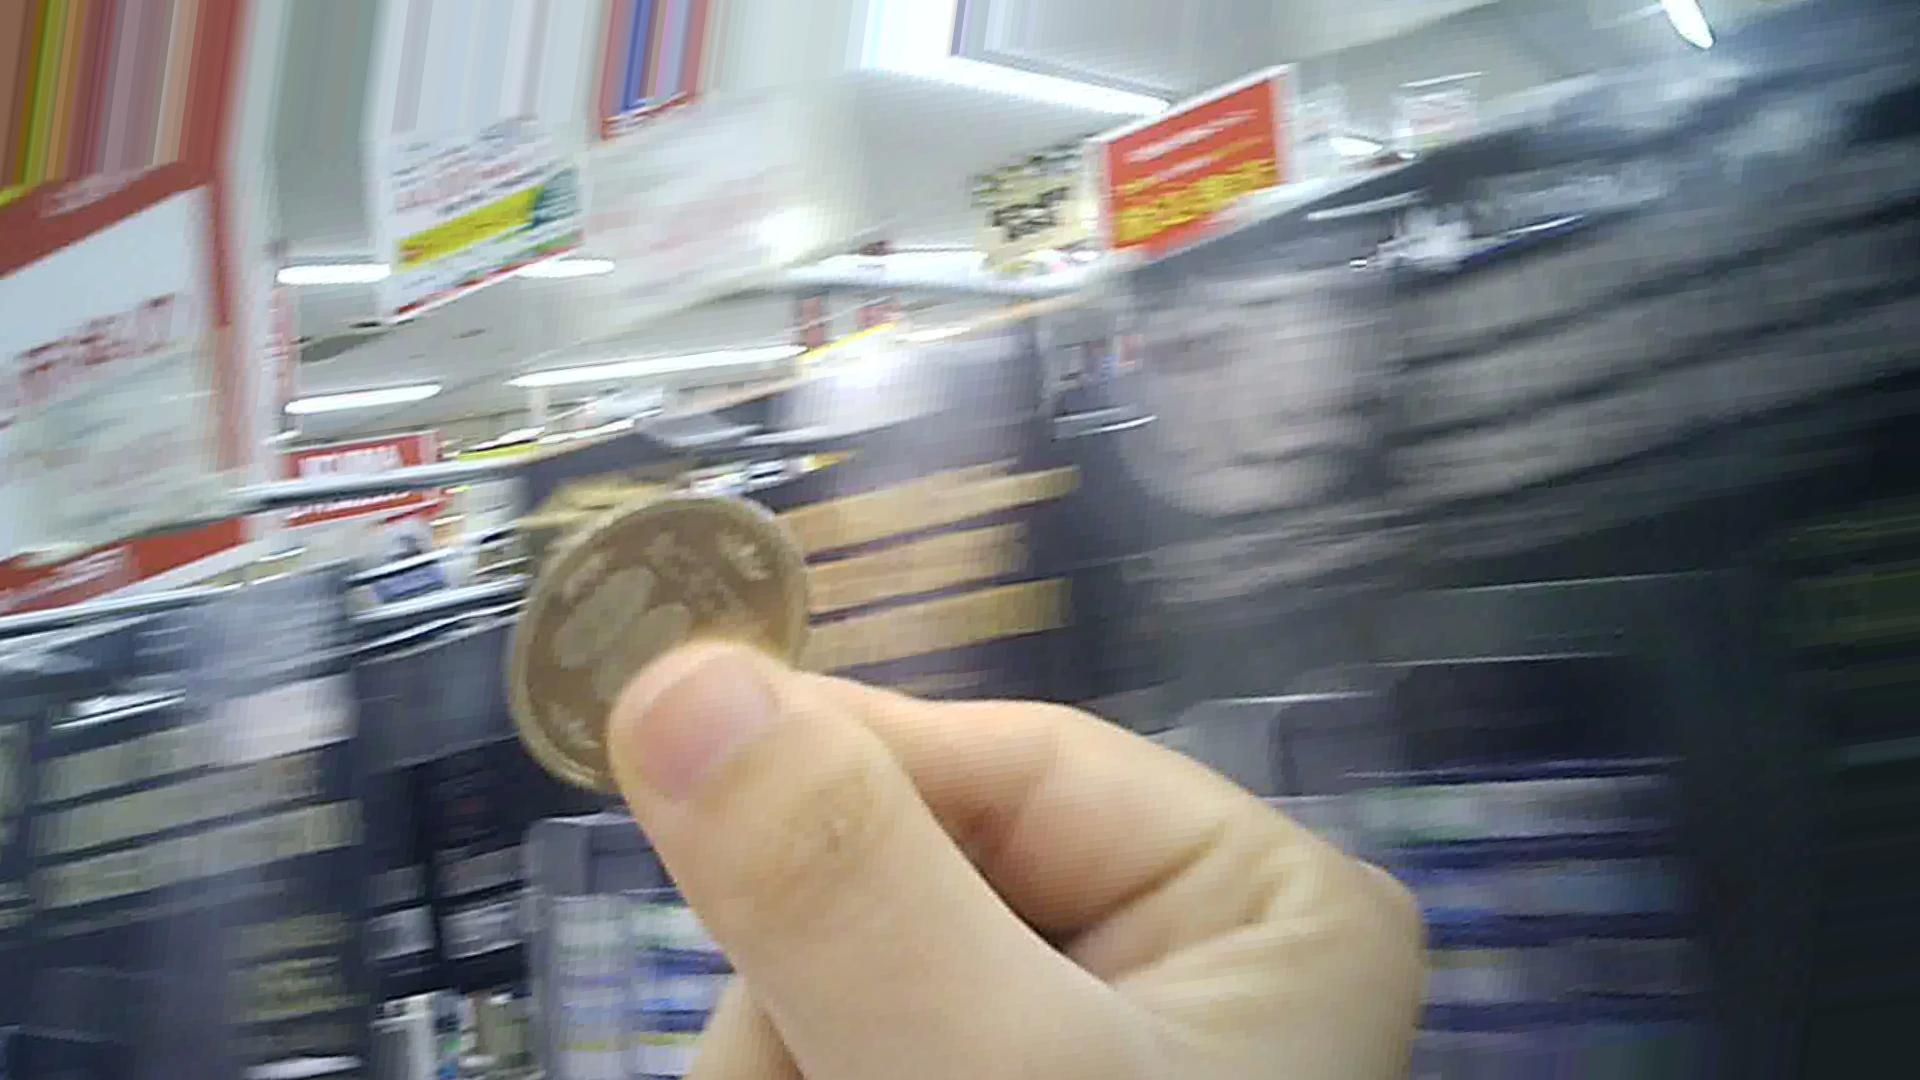500 Yen: (488, 491, 795, 789)
